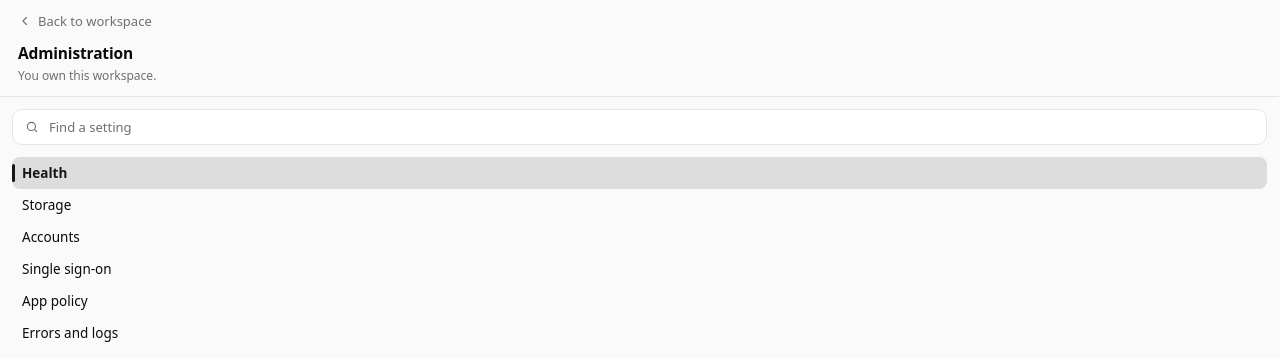
Test: the console nav › says so when nothing matched
Type "zzz" into the field named "Filter sections" at [650, 127], box [47, 110, 1254, 144]
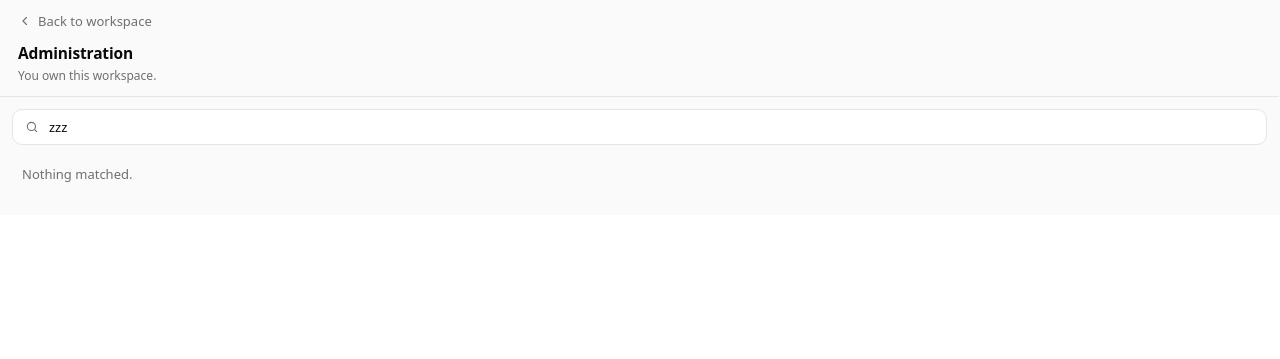
expect the text "Nothing matched." is shown: met, box [22, 165, 132, 183]
